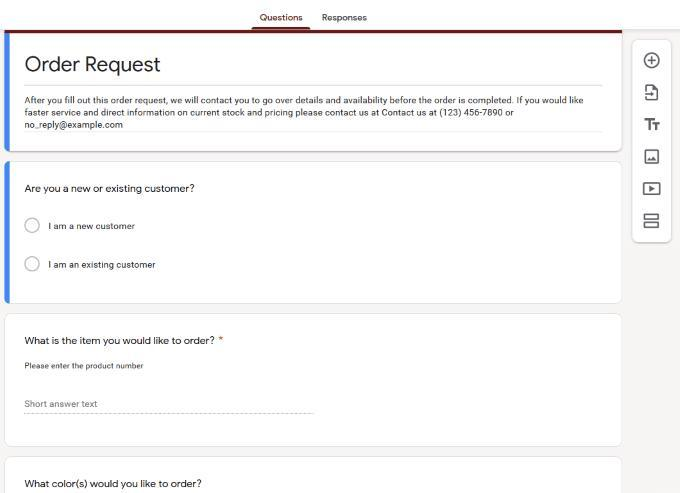button: (253, 2, 313, 30)
icon: (640, 211, 662, 232), (641, 149, 664, 168), (641, 52, 662, 72), (644, 113, 663, 133), (642, 181, 663, 199), (645, 83, 662, 103)
label: (23, 333, 227, 351), (20, 475, 206, 493), (21, 56, 169, 78), (23, 184, 202, 199), (49, 258, 160, 273), (47, 220, 136, 235), (321, 11, 378, 26)
radio: (22, 256, 42, 275), (23, 218, 44, 235)
